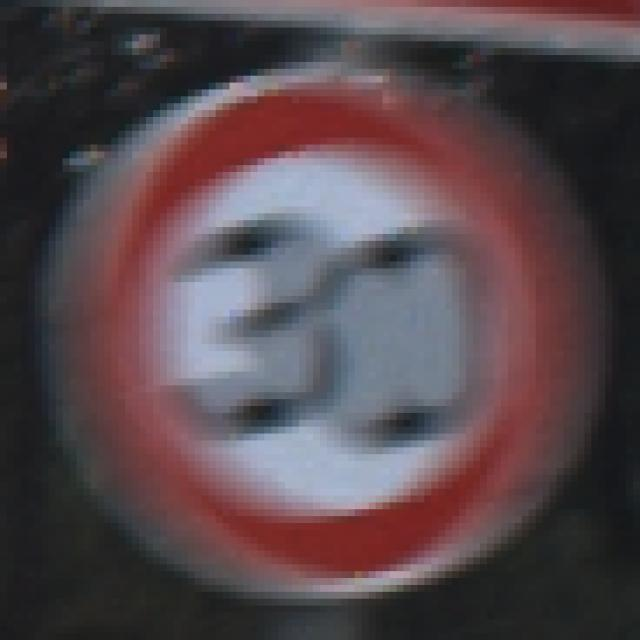Speed Limit -30-: (62, 51, 578, 582)
